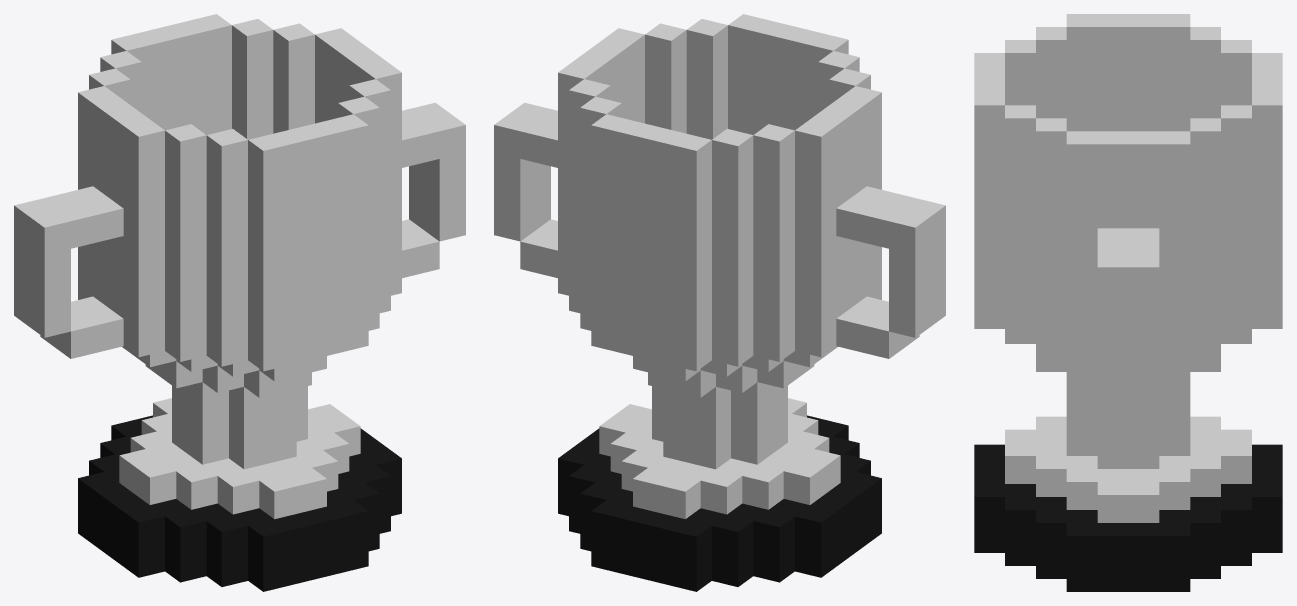
Rendered from Trophy-4.obj.
3 renders of one model, left to right at view 1: azimuth 30°, elevation 25°; view 2: azimuth 150°, elevation 25°; view 3: azimuth 270°, elevation 25°, orthographic.
Parts seen in each view (by area): view 1: Trophy-4; view 2: Trophy-4; view 3: Trophy-4.
Part boxes in pixels (bbox=[...]): Trophy-4: bbox=[14, 14, 465, 591]; Trophy-4: bbox=[494, 14, 945, 591]; Trophy-4: bbox=[974, 14, 1282, 591].
Size of the model in its own units: 16 by 16 by 10.
Materials: 1 (1 with a texture image).
